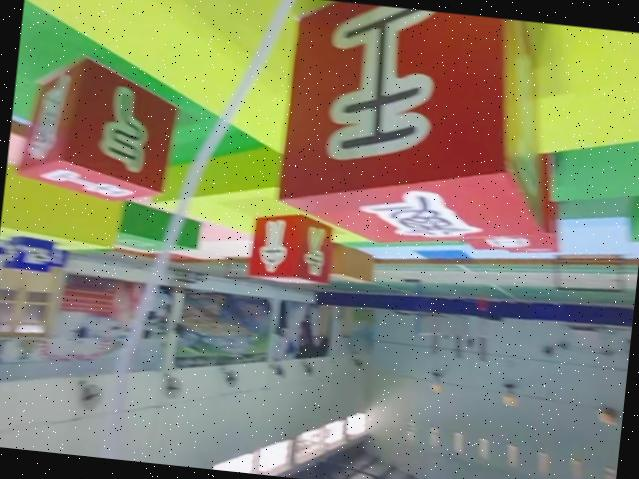R2 Fake: (270, 0, 569, 263), (12, 51, 183, 210), (244, 207, 337, 289)
